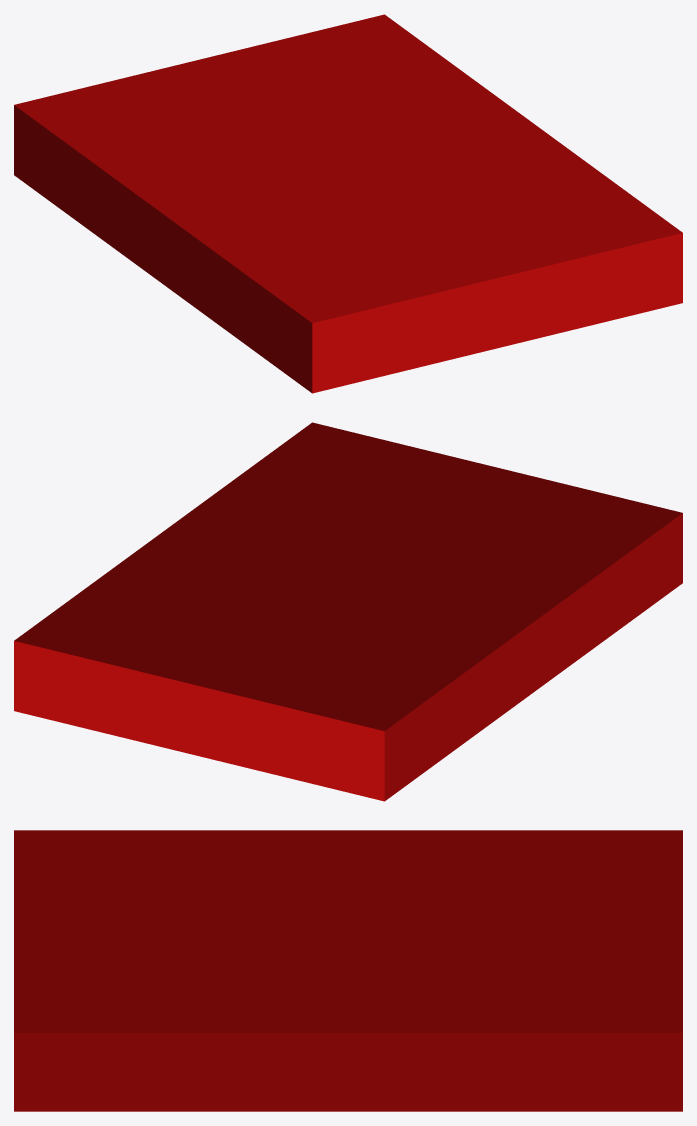
The model's file is redcard.glb.
The picture shows the model from 3 angles, top to bottom: view 1: azimuth 30°, elevation 25°; view 2: azimuth 150°, elevation 25°; view 3: azimuth 270°, elevation 25°; orthographic projection. The views are drawn at different scales.
Visible parts, largest first — view 1: ball; view 2: ball; view 3: ball.
Part boxes in pixels (x1=…): ball: x1=14, y1=14, x2=682, y2=393; ball: x1=14, y1=422, x2=682, y2=801; ball: x1=14, y1=830, x2=682, y2=1111.
Size of the model in its own units: 0.1104 by 0.02 by 0.1539.
1 material, 1 textured.
